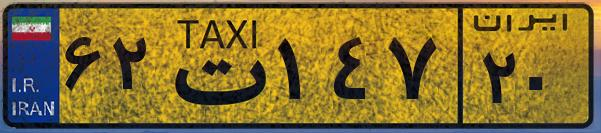0: (525, 38, 570, 115)
1: (270, 28, 330, 110)
2: (475, 38, 525, 113), (110, 28, 158, 98)
4: (330, 28, 385, 110)
6: (57, 26, 110, 100)
7: (385, 28, 445, 110)
ت: (158, 12, 270, 120)
